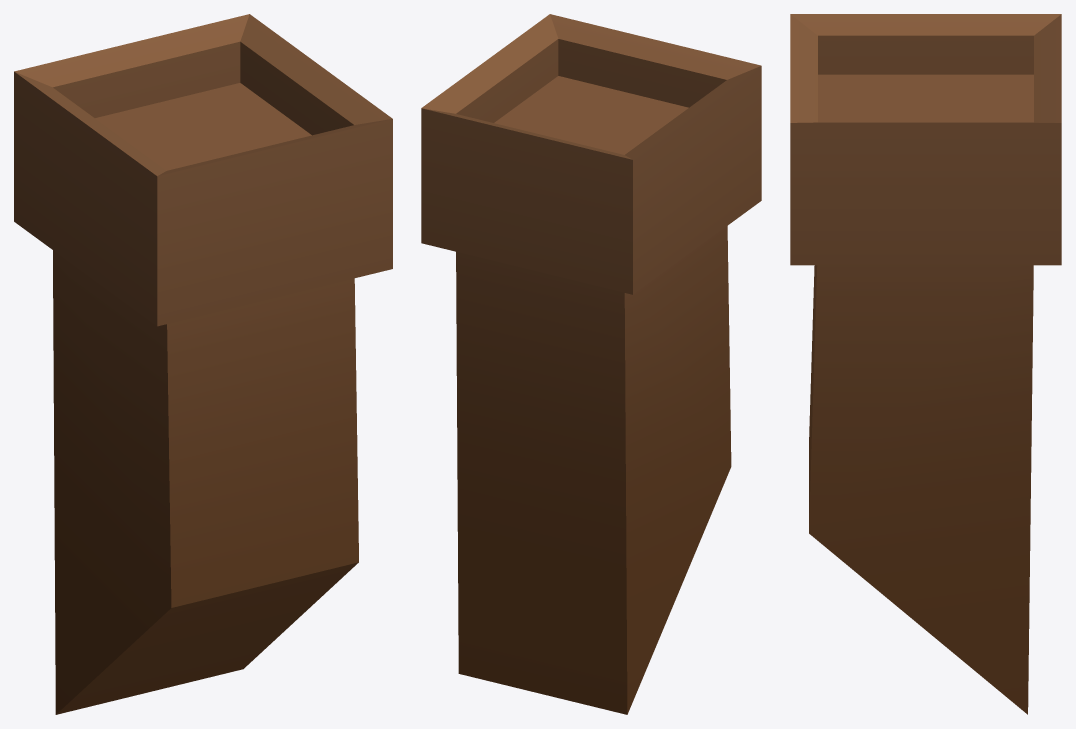
File: House_Chimney.gltf
The picture shows the model from 3 angles, left to right: view 1: azimuth 30°, elevation 25°; view 2: azimuth 150°, elevation 25°; view 3: azimuth 270°, elevation 25°; orthographic projection. The views are drawn at different scales.
Visible parts, largest first — view 1: House_Chimney; view 2: House_Chimney; view 3: House_Chimney.
Part boxes in pixels (x1,y1,x2,y2): House_Chimney: [14, 14, 392, 714]; House_Chimney: [421, 14, 761, 714]; House_Chimney: [790, 14, 1061, 714].
Size of the model in its own units: 0.6282 by 1.62 by 0.6612.
Materials: 1 (1 with a texture image).
